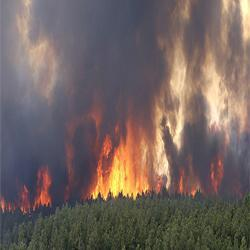fire: (97, 145, 140, 197), (37, 170, 50, 203)
